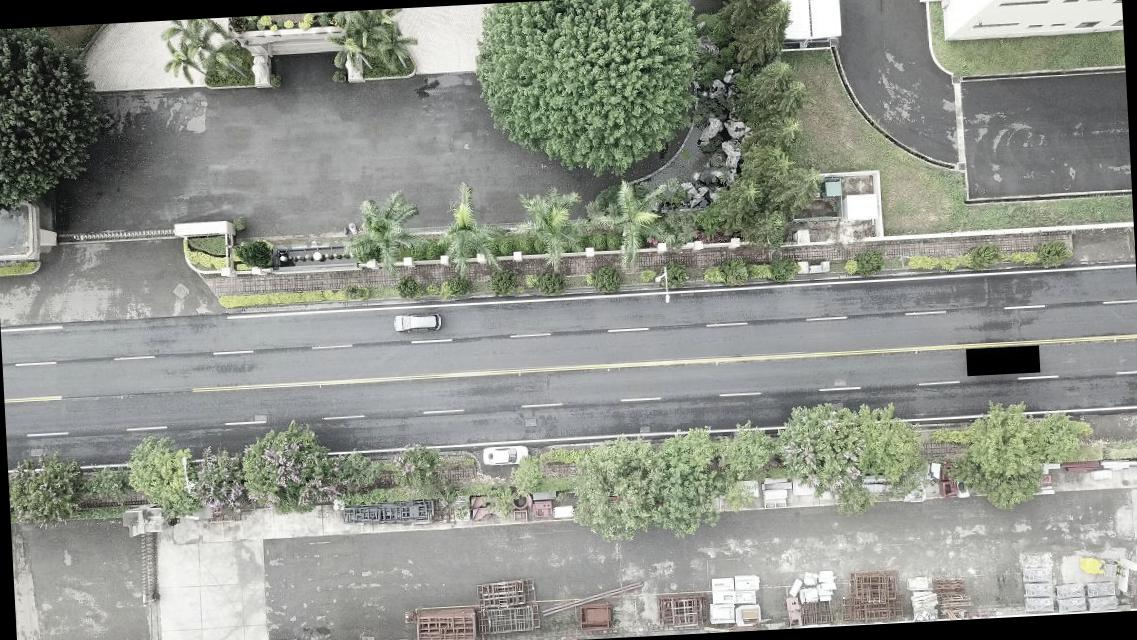vehicle: (482, 441, 530, 466), (392, 310, 442, 332)
